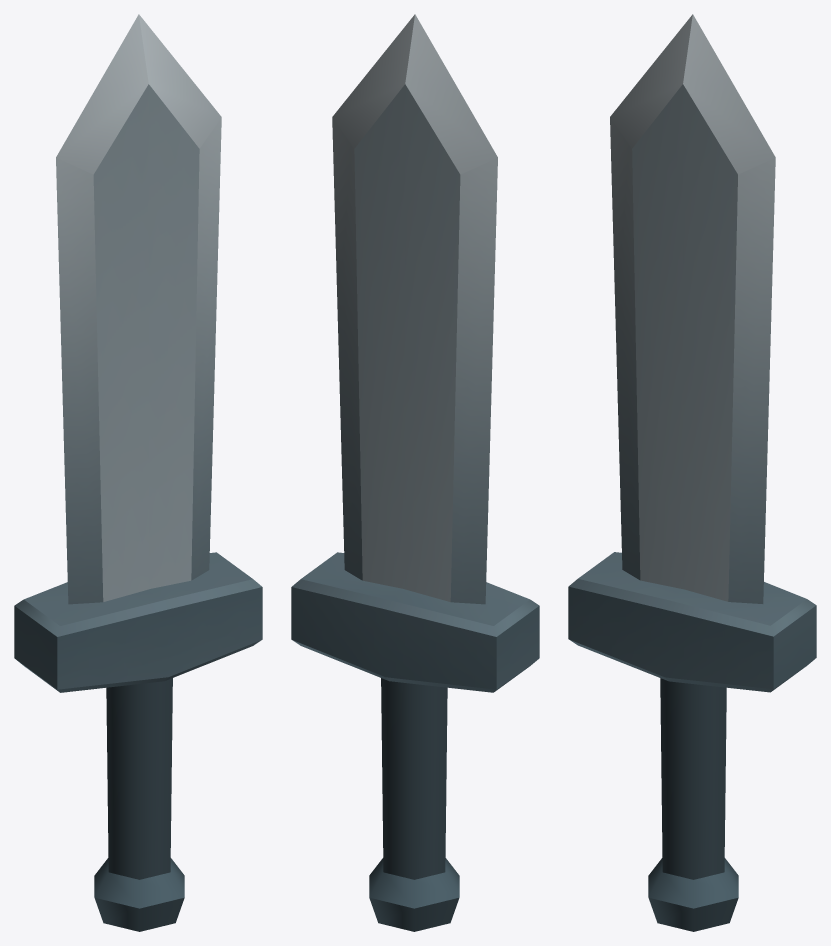
The model's file is wp cap5a.fbx.
3 renders of one model, left to right at view 1: azimuth 30°, elevation 25°; view 2: azimuth 150°, elevation 25°; view 3: azimuth 330°, elevation 25°, orthographic.
Parts seen in each view (by area): view 1: wp_cap5a; view 2: wp_cap5a; view 3: wp_cap5a.
Boxes of the visible parts, x1,y1,x2,y2 form: wp_cap5a: (14,14,262,931); wp_cap5a: (291,14,539,931); wp_cap5a: (568,14,816,931).
Bounding box in the file's own units: 36.74 × 154 × 17.79.
1 material, 1 textured.
